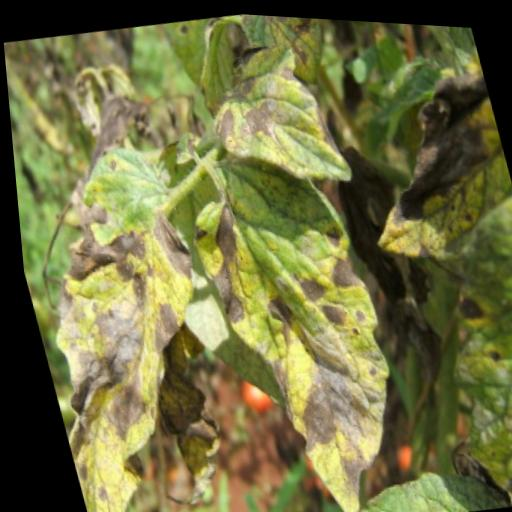Early Blight: (10, 136, 261, 512), (173, 135, 418, 512), (380, 179, 512, 510), (329, 56, 512, 268), (187, 27, 345, 187)
